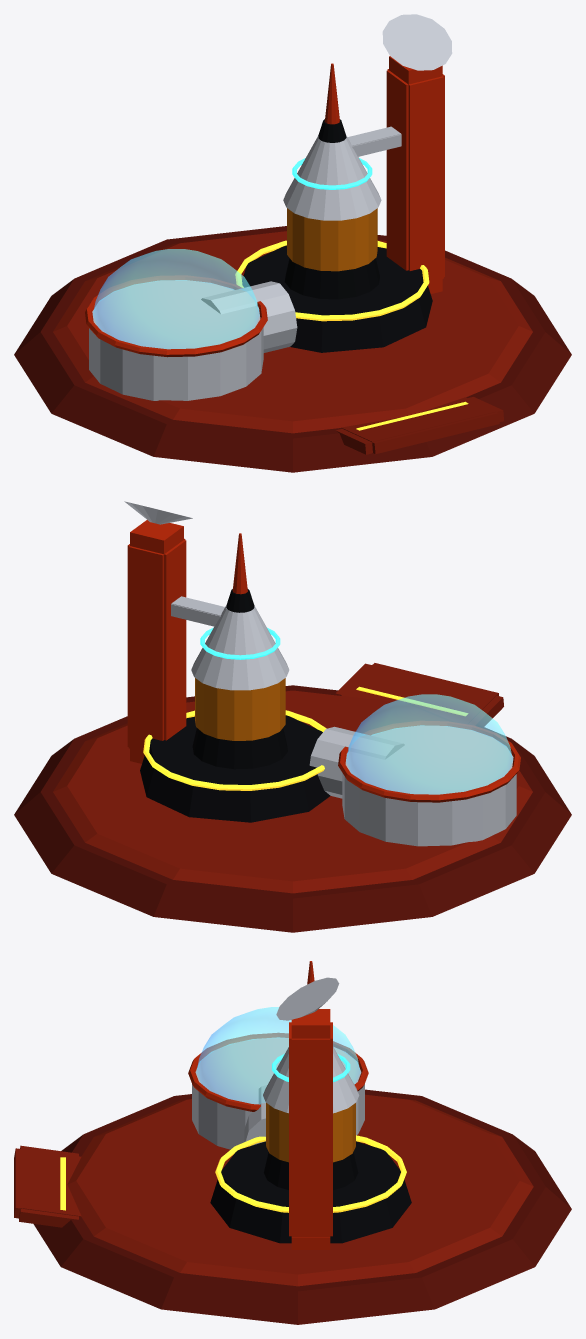
File: mars_return_base.glb
3 renders of one model, top to bottom at view 1: azimuth 30°, elevation 25°; view 2: azimuth 150°, elevation 25°; view 3: azimuth 270°, elevation 25°, orthographic.
Visible parts, largest first — view 1: MarsReturnBaseBody, MarsReturnBaseGlass, SpinRadar, MarsReturnBaseGlow; view 2: MarsReturnBaseBody, MarsReturnBaseGlass, MarsReturnBaseGlow, SpinRadar; view 3: MarsReturnBaseBody, MarsReturnBaseGlass, MarsReturnBaseGlow, SpinRadar.
Part boxes in pixels (box(x1,y1,x2,y2)): MarsReturnBaseBody: box(14, 56, 571, 472); MarsReturnBaseGlass: box(93, 249, 259, 348); SpinRadar: box(382, 14, 452, 70); MarsReturnBaseGlow: box(235, 158, 468, 430); MarsReturnBaseBody: box(14, 520, 571, 932); MarsReturnBaseGlass: box(346, 694, 512, 794); MarsReturnBaseGlow: box(143, 627, 467, 790); SpinRadar: box(124, 501, 192, 524); MarsReturnBaseBody: box(14, 961, 571, 1324); MarsReturnBaseGlass: box(196, 1007, 360, 1104); MarsReturnBaseGlow: box(60, 1053, 406, 1212); SpinRadar: box(276, 977, 339, 1020).
Size of the model in its own units: 16.8 by 9.73 by 17.11.
